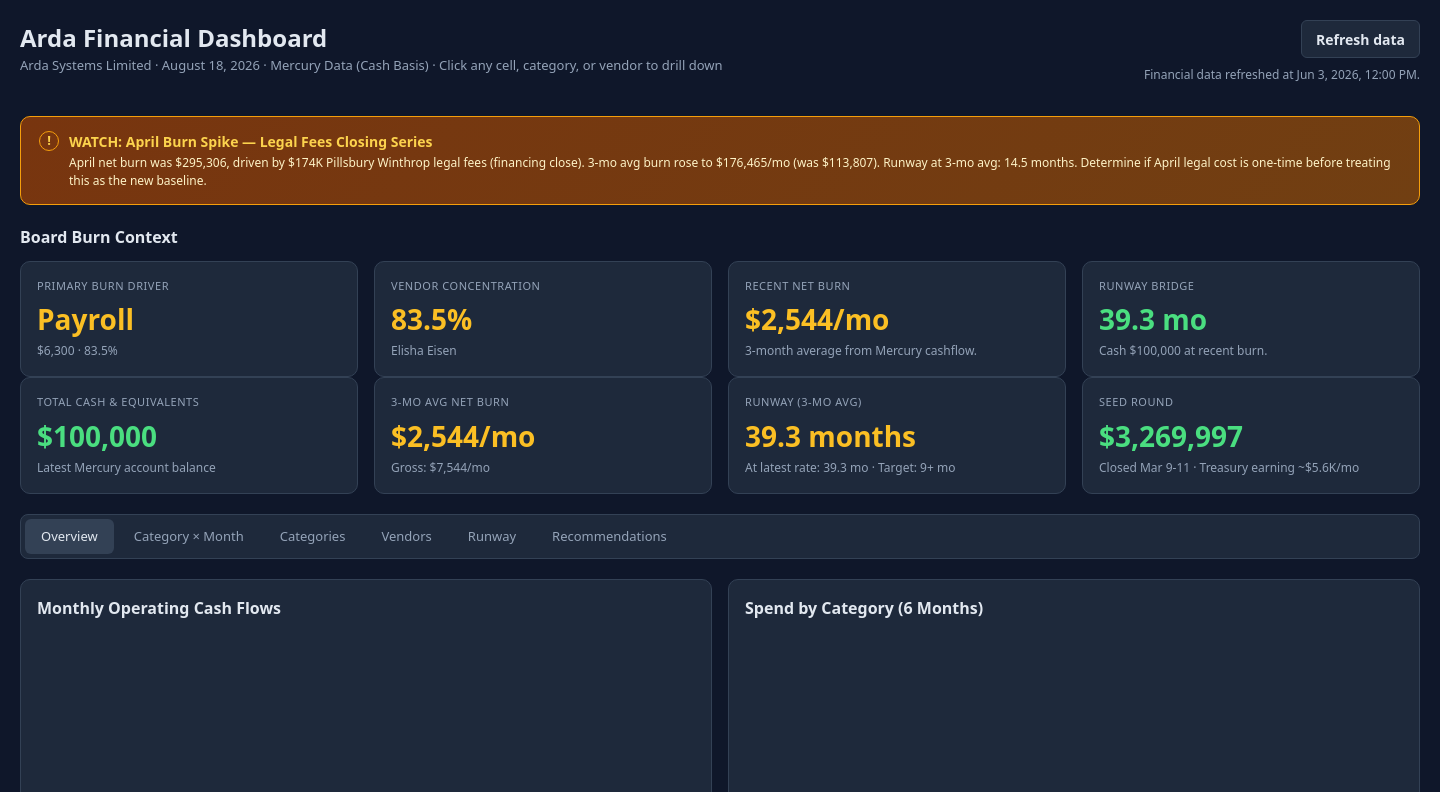
it: ExpenseDashboard › shows vendor transaction drilldowns
This screenshot has width=1440, height=792.
Click the button "Vendors". click: {"x": 407, "y": 536}
box: [365,518,448,554]
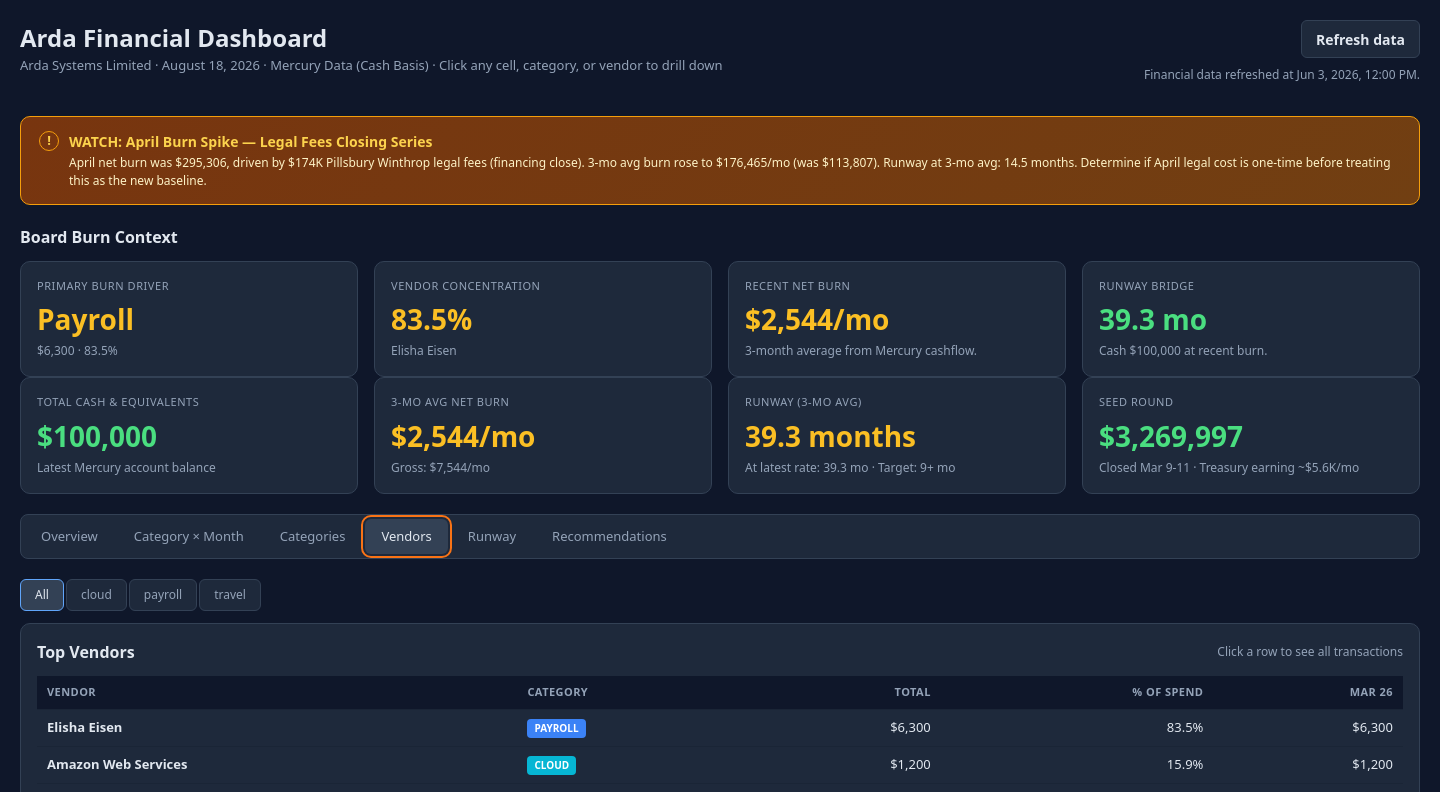
Click the button "Amazon Web Services". click: {"x": 117, "y": 765}
box: [47,755,188,774]
(page scrolled)
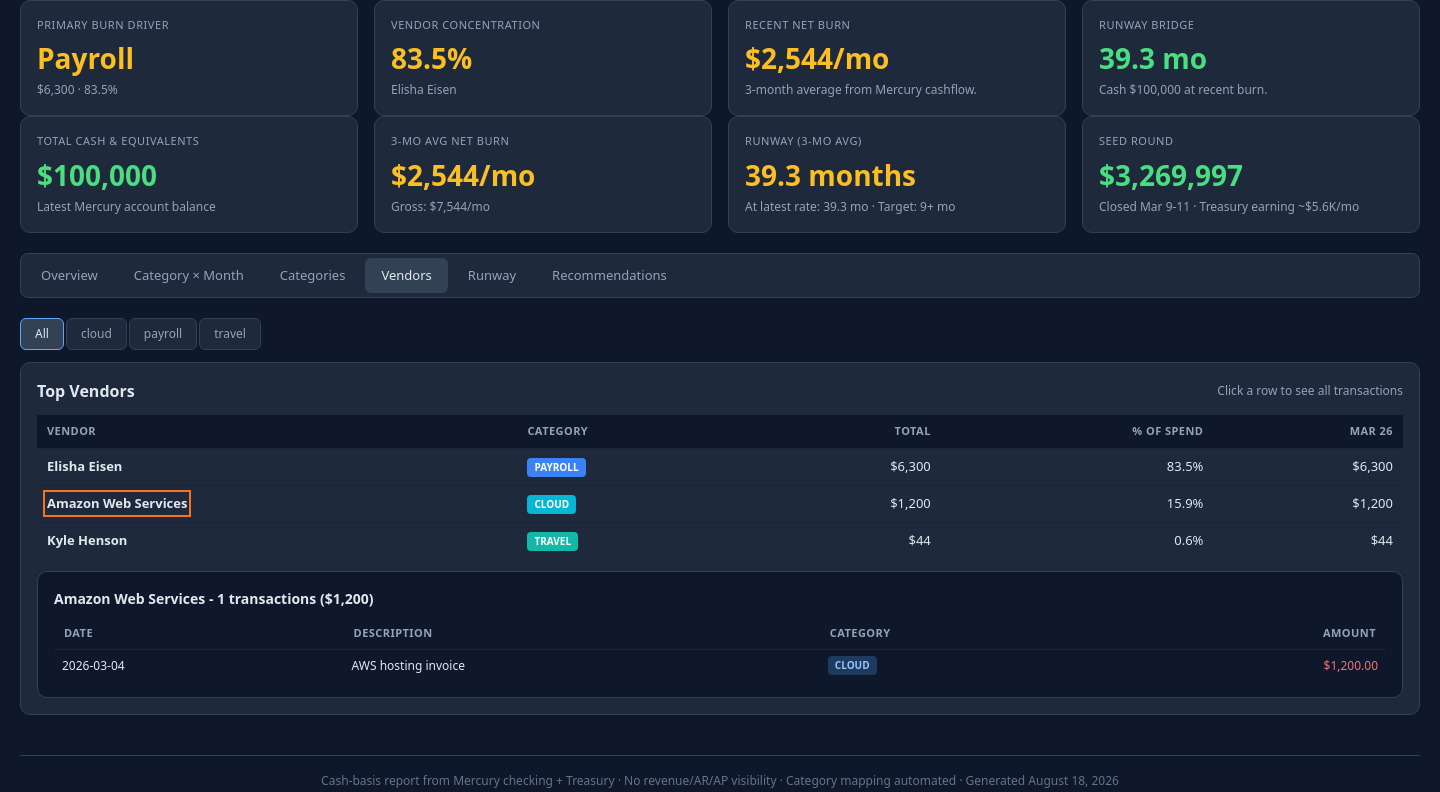
Check: the text "Amazon Web Services - 1 transactions ($1,200)" is shown, box [54,588,373,608]
Check: the text "AWS hosting invoice" is shown, box [344,650,820,681]
